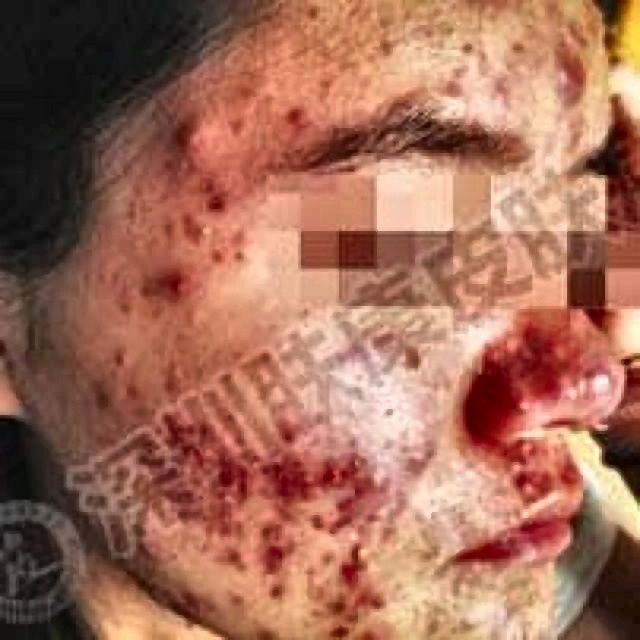nodule: (554, 56, 602, 103), (155, 256, 200, 303), (408, 428, 446, 480), (206, 484, 244, 528), (326, 556, 371, 587), (162, 422, 206, 452), (355, 459, 393, 493), (501, 384, 532, 425), (507, 459, 548, 490), (272, 416, 314, 446), (498, 322, 529, 362), (308, 587, 346, 618), (253, 509, 294, 537), (352, 581, 383, 618), (196, 434, 232, 465), (282, 100, 317, 131), (238, 443, 269, 478), (330, 444, 368, 472), (200, 178, 231, 212), (171, 110, 206, 140), (485, 69, 513, 106), (364, 28, 400, 56), (155, 356, 187, 387), (171, 491, 203, 522), (339, 528, 380, 552), (431, 72, 466, 100), (254, 540, 285, 571), (222, 110, 256, 138), (291, 468, 320, 499), (117, 378, 149, 406), (469, 341, 497, 372), (105, 337, 136, 365), (130, 522, 158, 552), (225, 580, 257, 606), (266, 572, 295, 600), (196, 238, 225, 266), (133, 272, 162, 300), (174, 596, 203, 622), (155, 543, 184, 568), (114, 288, 139, 316), (270, 446, 288, 484), (184, 216, 212, 240), (513, 431, 539, 456), (225, 240, 250, 266), (206, 537, 231, 562), (333, 494, 355, 522), (545, 344, 570, 368), (193, 524, 216, 550), (228, 222, 254, 244), (181, 578, 206, 600), (228, 543, 250, 565), (317, 465, 339, 487), (310, 509, 330, 531), (200, 593, 218, 615), (254, 618, 272, 637)
